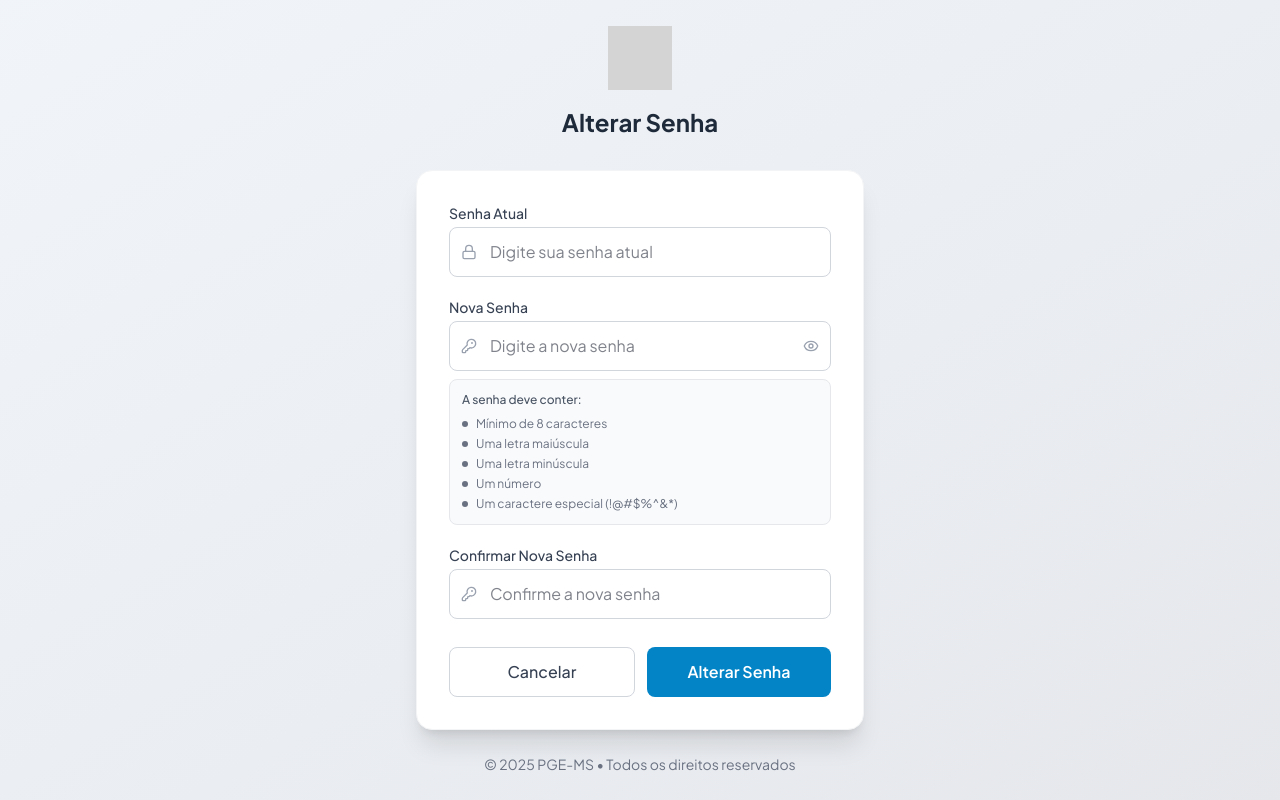
Test: ChangePasswordPage › deve exibir erro quando senha nao tem 8 caracteres
Type "atual" into the password field labelled "Senha Atual".
click(640, 252); type("atual")  # box x1=449 y1=227 x2=831 y2=277
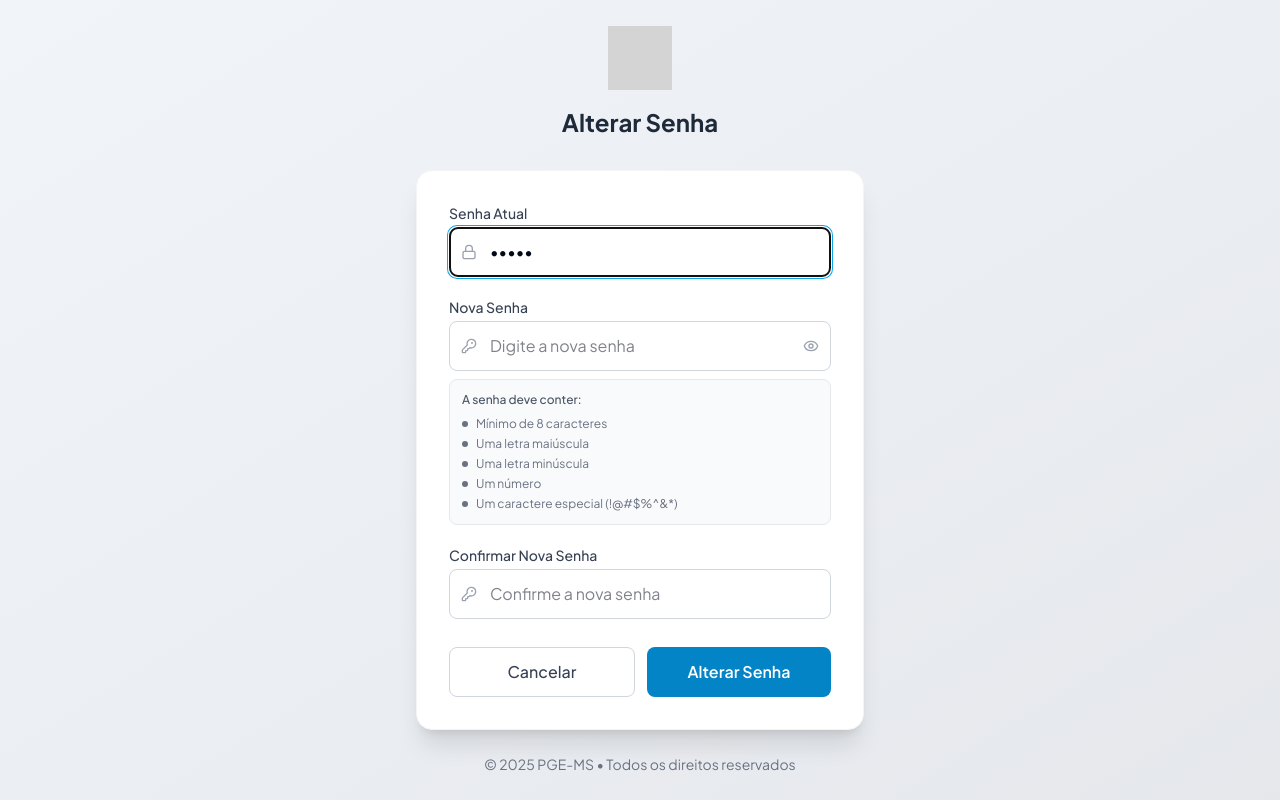
Type "Ab1@" into the password field labelled "Nova Senha".
click(640, 346); type("Ab1@")  # box x1=449 y1=321 x2=831 y2=371
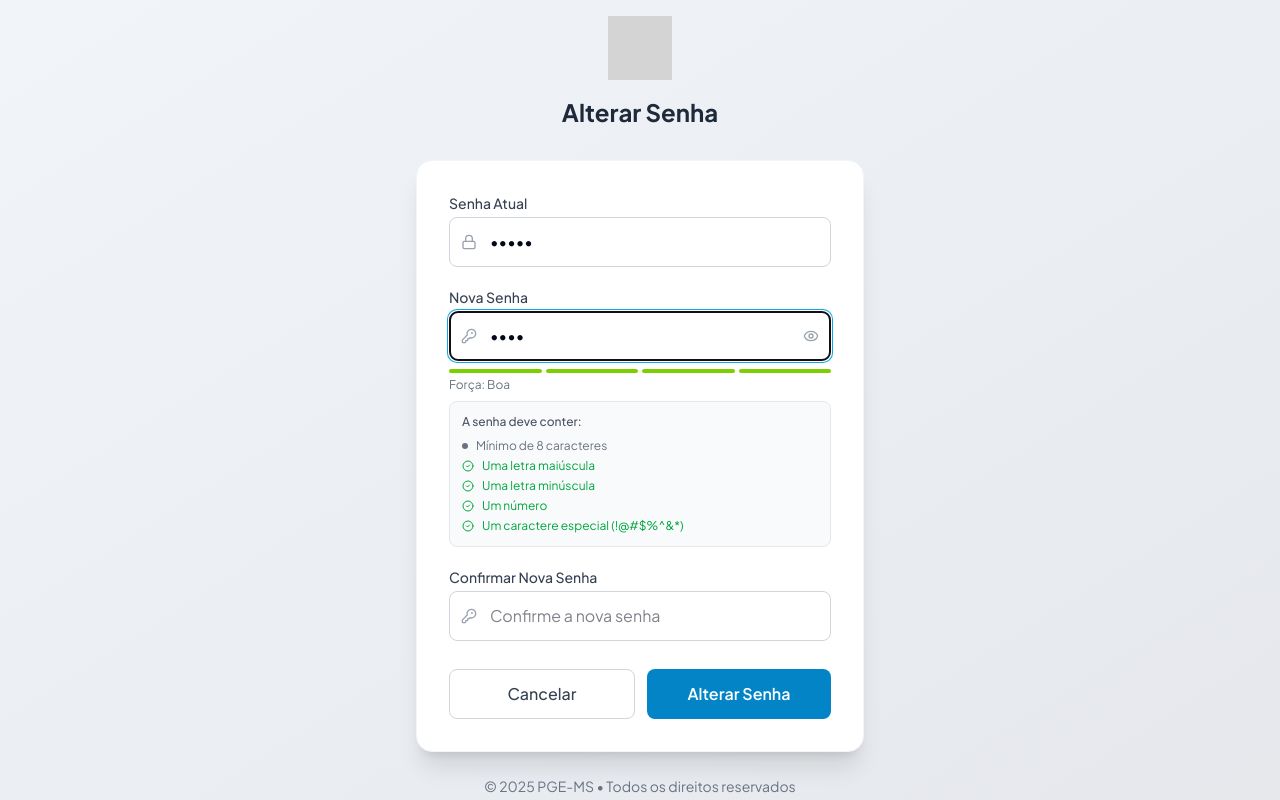
Type "Ab1@" into the password field labelled "Confirmar Nova Senha".
click(640, 616); type("Ab1@")  # box x1=449 y1=591 x2=831 y2=641
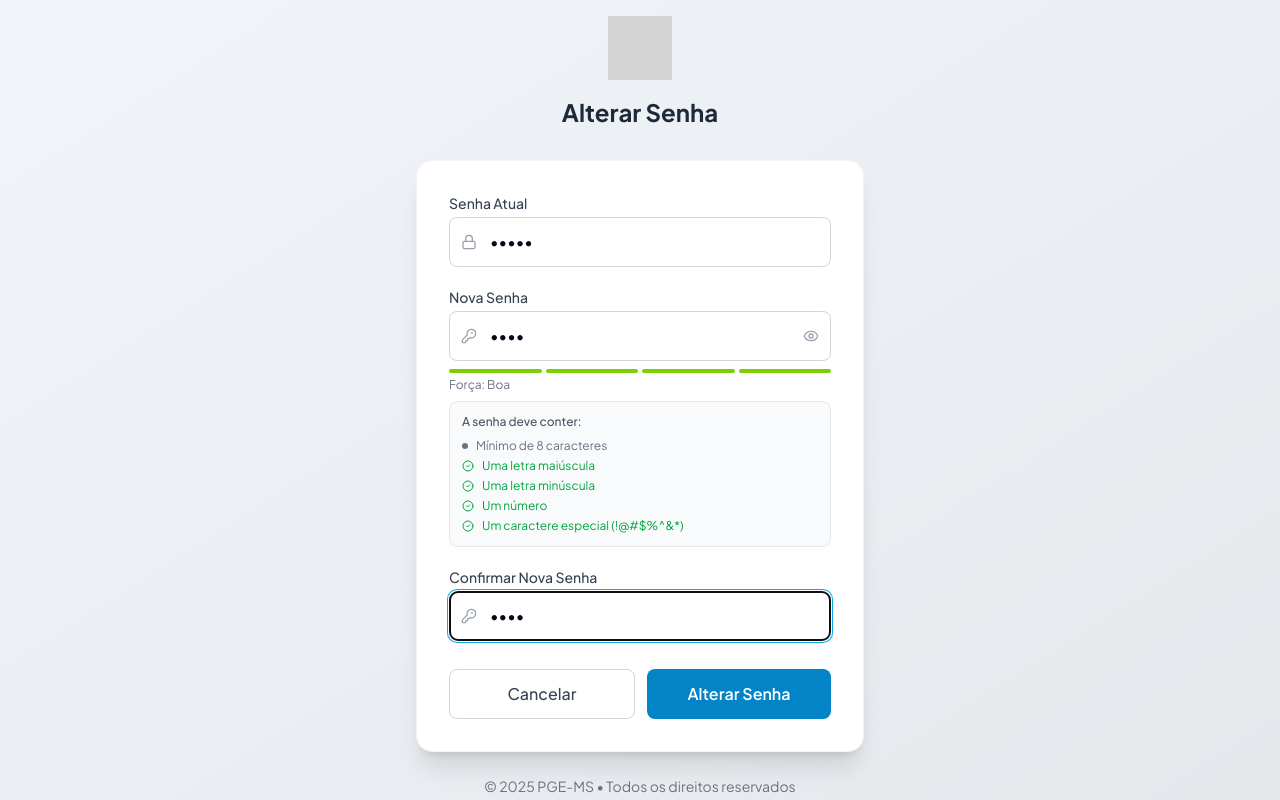
Click the button "Alterar Senha".
click(739, 694)  # box x1=647 y1=669 x2=831 y2=719
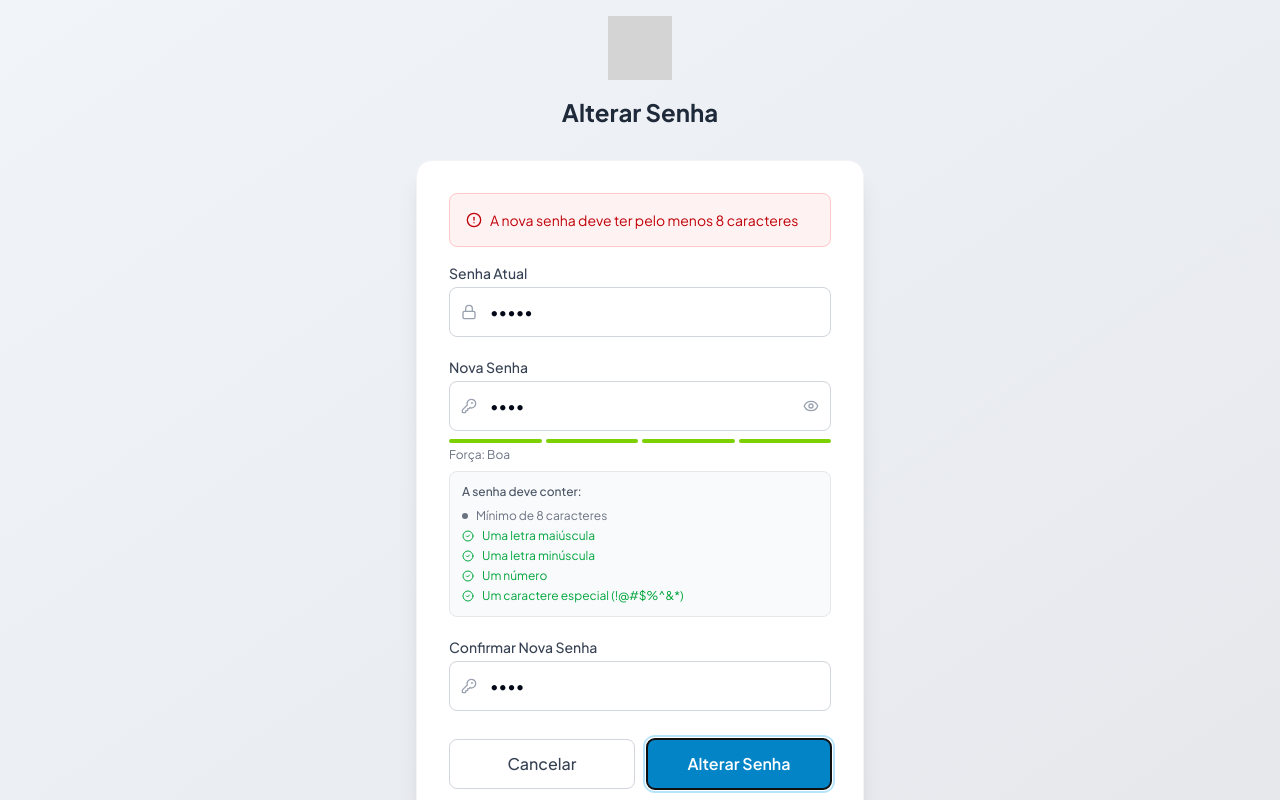
Check: the text "A nova senha deve ter pelo menos 8 caracteres" is shown, box x1=490 y1=210 x2=798 y2=230
